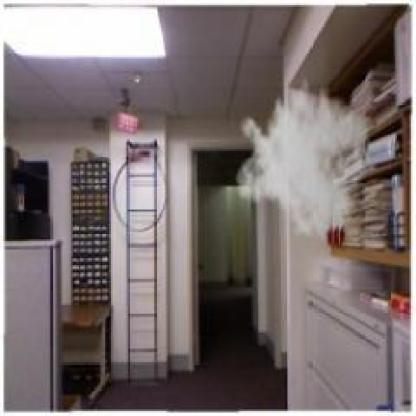Smoke: (233, 67, 372, 245)
